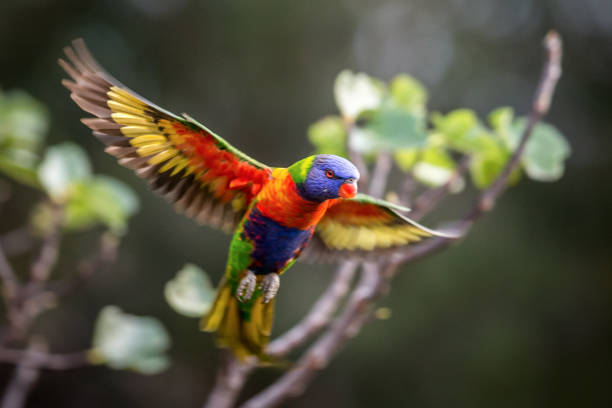Bird: (54, 35, 463, 350)
